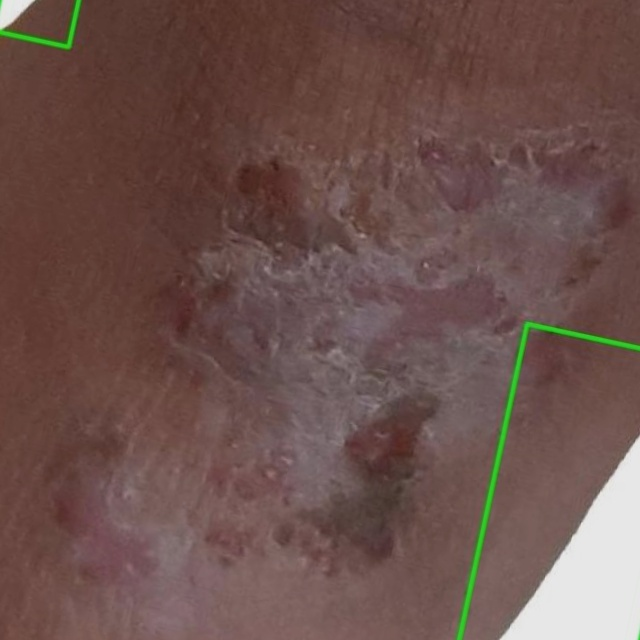Contact Dermatitis: (459, 323, 639, 639)
